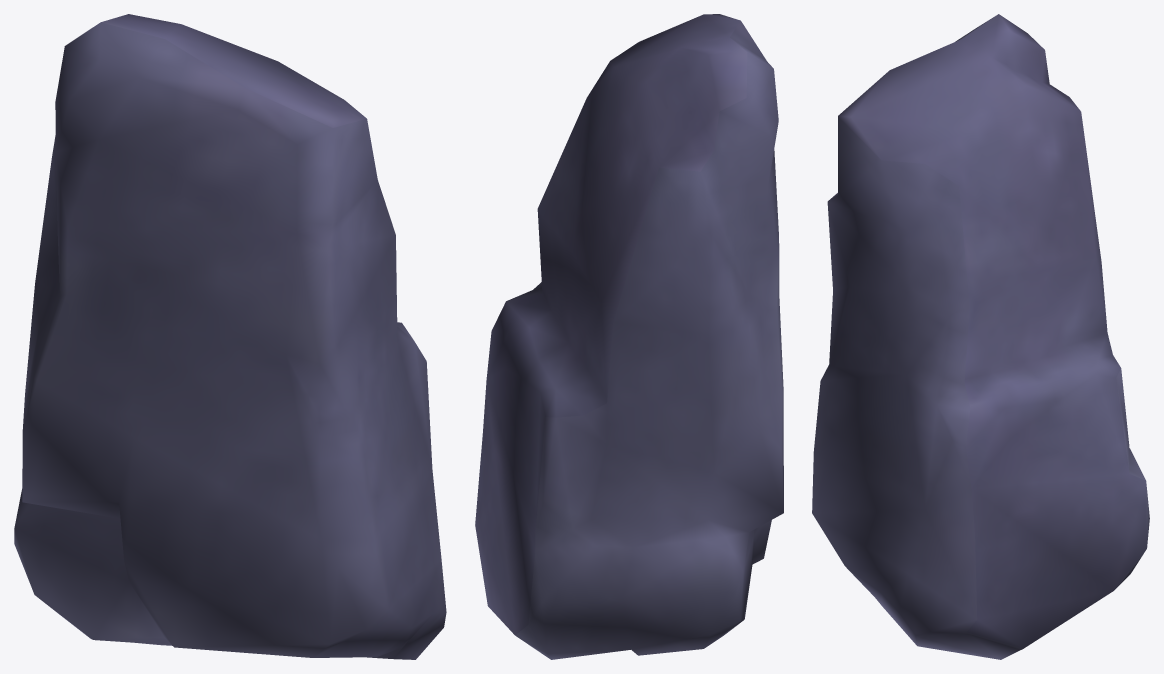
File: Battle_haijie_suishi02b_fbx.fbx
The picture shows the model from 3 angles, left to right: view 1: azimuth 30°, elevation 25°; view 2: azimuth 150°, elevation 25°; view 3: azimuth 270°, elevation 25°; orthographic projection. The views are drawn at different scales.
Parts seen in each view (by area): view 1: Battle_haijie_suishi02b_fbx__4_; view 2: Battle_haijie_suishi02b_fbx__4_; view 3: Battle_haijie_suishi02b_fbx__4_.
Boxes of the visible parts, x1,y1,x2,y2 form: Battle_haijie_suishi02b_fbx__4_: (14, 14, 446, 659); Battle_haijie_suishi02b_fbx__4_: (475, 14, 783, 659); Battle_haijie_suishi02b_fbx__4_: (812, 14, 1149, 659).
Bounding box in the file's own units: 198 × 351 × 195.
